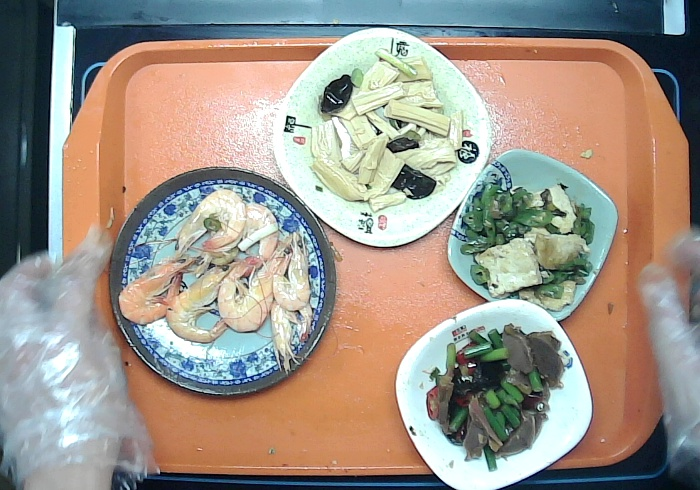NLDX-Bai_Se_Xiao_Fang_Die: (392, 296, 595, 490)
NLDX-Fu_Zi_Fang_Die: (269, 25, 495, 252)
NLDX-Qing_Hua_Xiao_Fang_Die: (442, 147, 621, 324)
NLDX-Qing_Hua_Yuan_Die: (101, 161, 339, 400)
